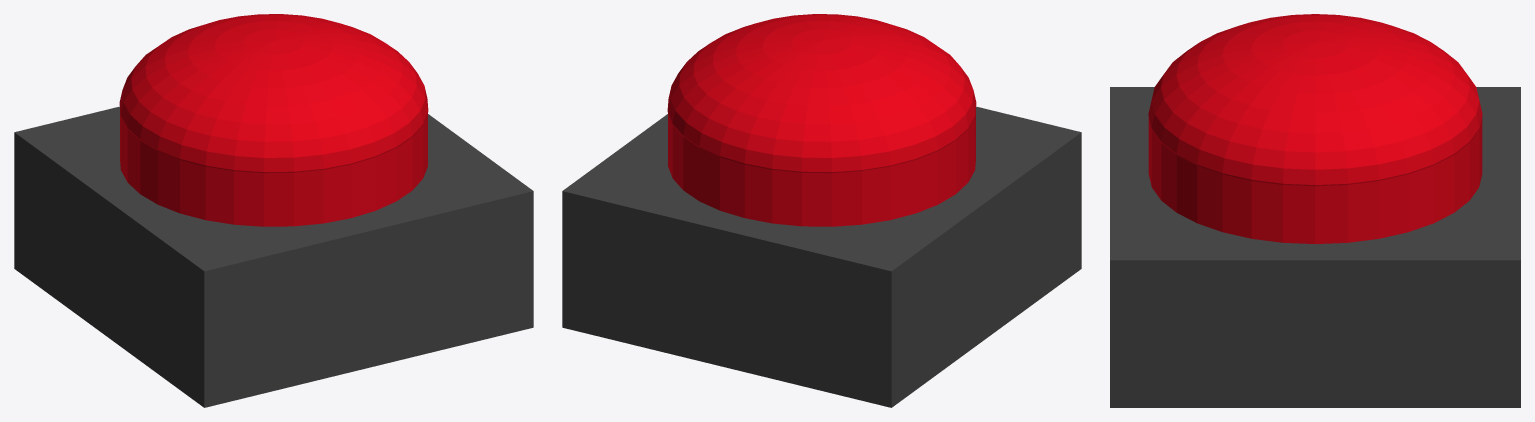
Rendered from lamp_red.glb.
The picture shows the model from 3 angles, left to right: view 1: azimuth 30°, elevation 25°; view 2: azimuth 150°, elevation 25°; view 3: azimuth 270°, elevation 25°; orthographic projection. The views are drawn at different scales.
Parts seen in each view (by area): view 1: Cube, Sphere, Cylinder; view 2: Cube, Sphere, Cylinder; view 3: Cube, Sphere, Cylinder.
Part boxes in pixels (<box>): Cube: <box>14,106,533,407</box>; Sphere: <box>119,14,428,173</box>; Cylinder: <box>120,110,427,226</box>; Cube: <box>562,106,1081,407</box>; Sphere: <box>667,14,976,173</box>; Cylinder: <box>668,110,975,226</box>; Cube: <box>1110,87,1520,407</box>; Sphere: <box>1148,14,1482,186</box>; Cylinder: <box>1148,117,1482,244</box>.
Size of the model in its own units: 2 by 1.49 by 2.
